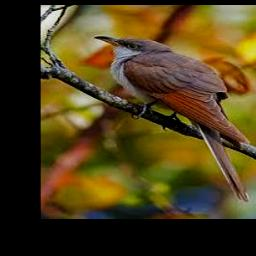Cuckoo: (94, 35, 250, 202)
